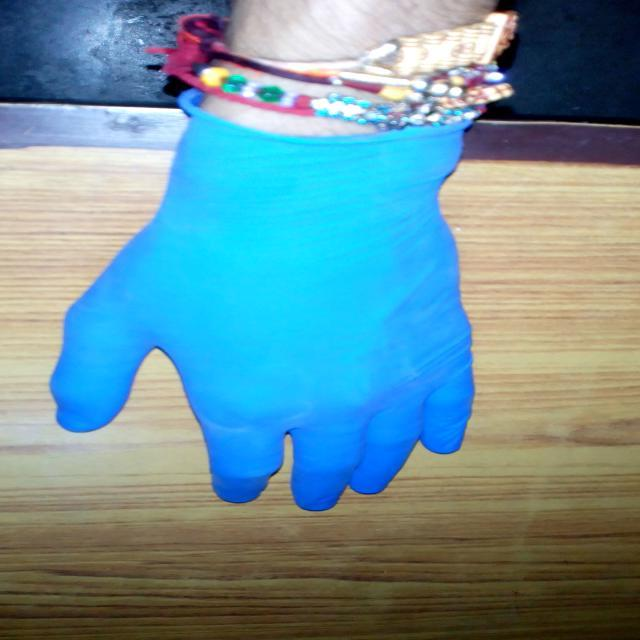gloved_hand: (48, 109, 497, 522)
